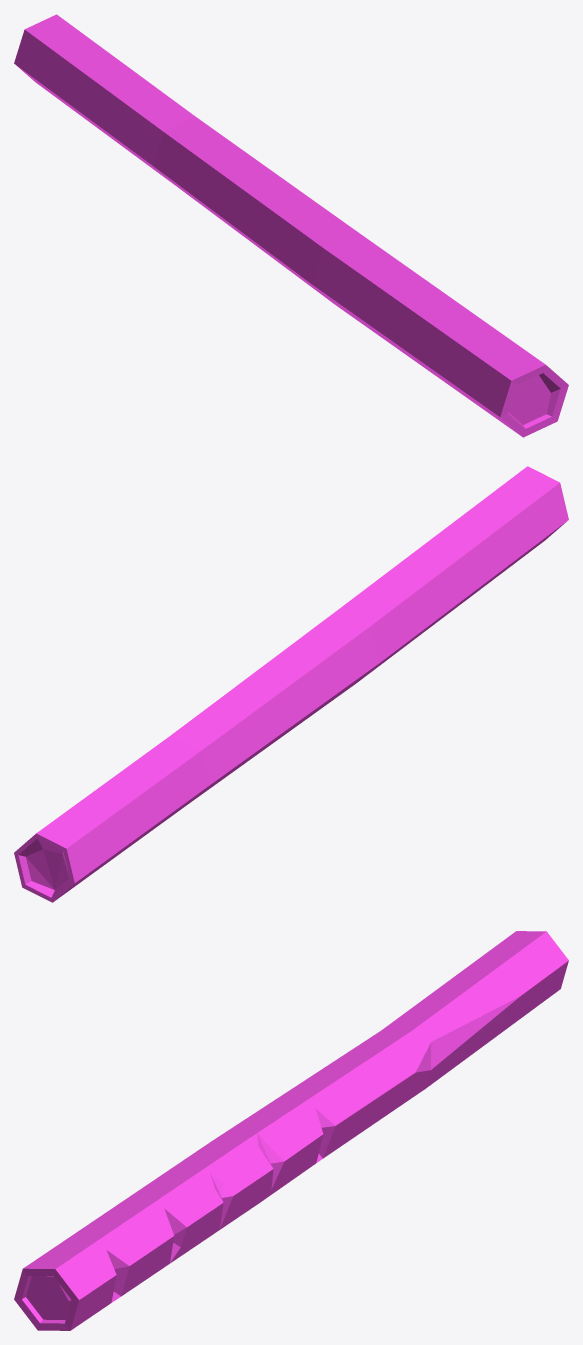
File: SM_Wood_Timber_A_Fantasy.fbx
The picture shows the model from 3 angles, top to bottom: view 1: azimuth 30°, elevation 25°; view 2: azimuth 150°, elevation 25°; view 3: azimuth 330°, elevation 25°; orthographic projection. The views are drawn at different scales.
Parts seen in each view (by area): view 1: SM_Wood_Timber_A_Fantasy; view 2: SM_Wood_Timber_A_Fantasy; view 3: SM_Wood_Timber_A_Fantasy.
Boxes of the visible parts, x1,y1,x2,y2 form: SM_Wood_Timber_A_Fantasy: (14,14,568,437); SM_Wood_Timber_A_Fantasy: (14,466,568,902); SM_Wood_Timber_A_Fantasy: (14,931,568,1330).
Size of the model in its own units: 0.4486 by 0.4696 by 5.25.
